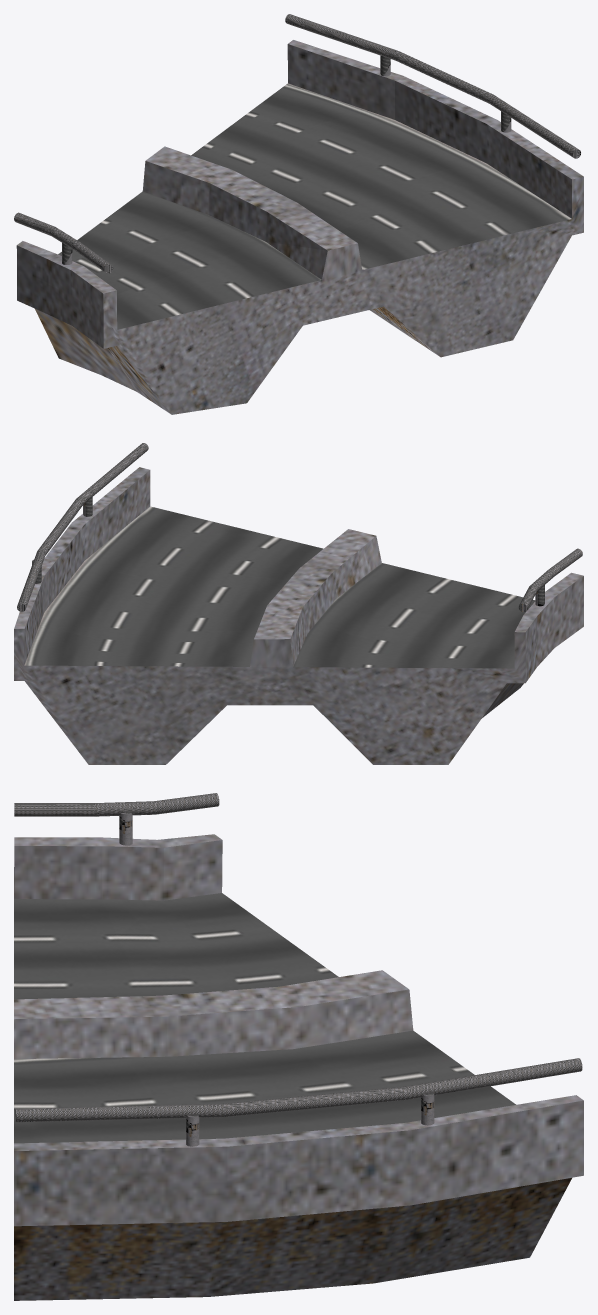
Rendered from highwaybend.FBX.
The picture shows the model from 3 angles, top to bottom: view 1: azimuth 30°, elevation 25°; view 2: azimuth 150°, elevation 25°; view 3: azimuth 270°, elevation 25°; orthographic projection. The views are drawn at different scales.
Visible parts, largest first — view 1: highwaybend; view 2: highwaybend; view 3: highwaybend.
Boxes of the visible parts, x1,y1,x2,y2 form: highwaybend: (14,14,583,414); highwaybend: (14,443,583,764); highwaybend: (14,793,583,1300).
Size of the model in its own units: 9767 by 3302 by 7281.
